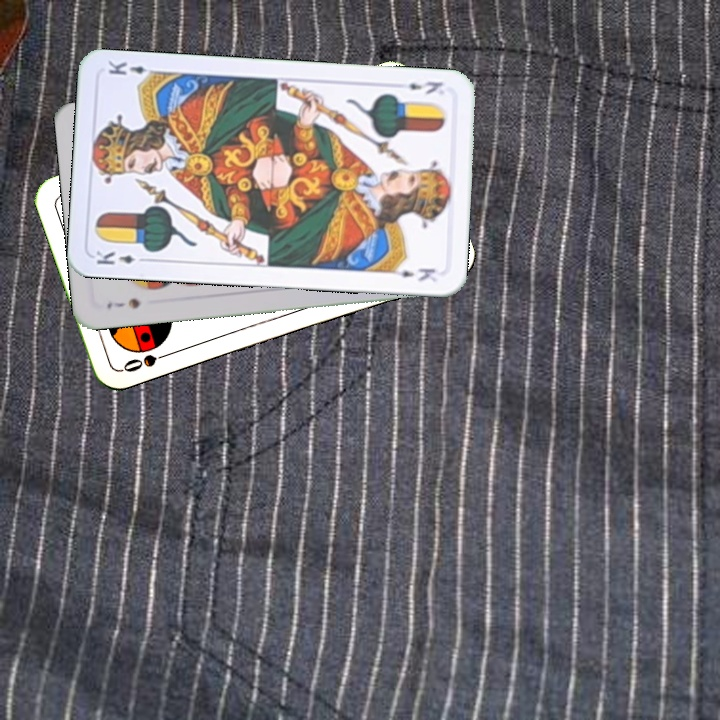EK: (92, 247, 151, 267), (404, 77, 446, 97)
S7: (103, 294, 143, 312)
SO: (118, 347, 176, 375)
